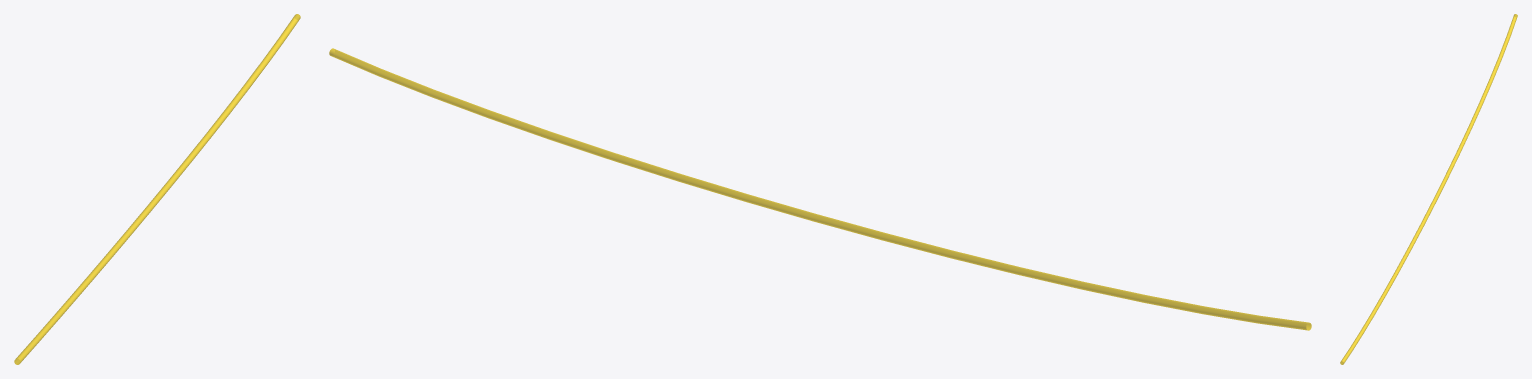
File: Event_15818458_track_31.fbx
3 renders of one model, left to right at view 1: azimuth 90°, elevation 25°; view 2: azimuth 150°, elevation 25°; view 3: azimuth 270°, elevation 25°, orthographic. The views are drawn at different scales.
Parts seen in each view (by area): view 1: Model; view 2: Model; view 3: Model.
Part boxes in pixels (left/top/right/bottom): Model: left=14, top=14, right=300, bottom=364; Model: left=329, top=48, right=1311, bottom=330; Model: left=1340, top=14, right=1517, bottom=364.
Bounding box in the file's own units: 6.58 × 0.7687 × 1.76.
